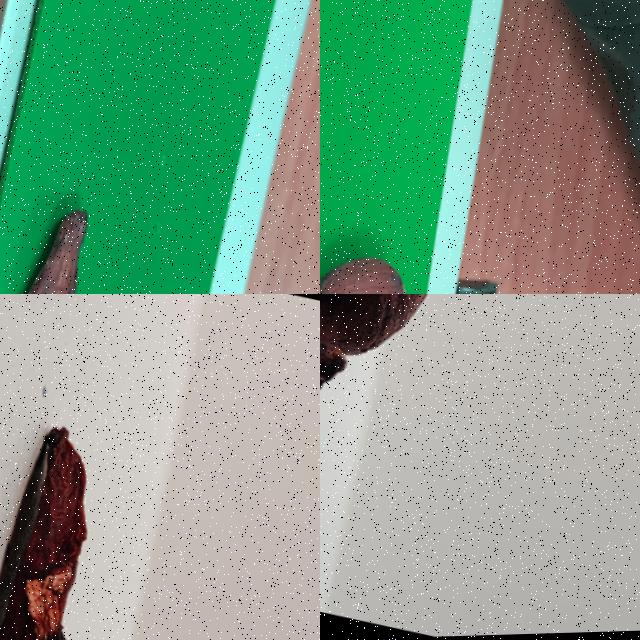Agglomerated_cocoabeans: (320, 294, 525, 524)
Fine_cocoabeans: (320, 166, 456, 293)
Flat_cocoabeans: (0, 297, 184, 639), (0, 126, 135, 293)
